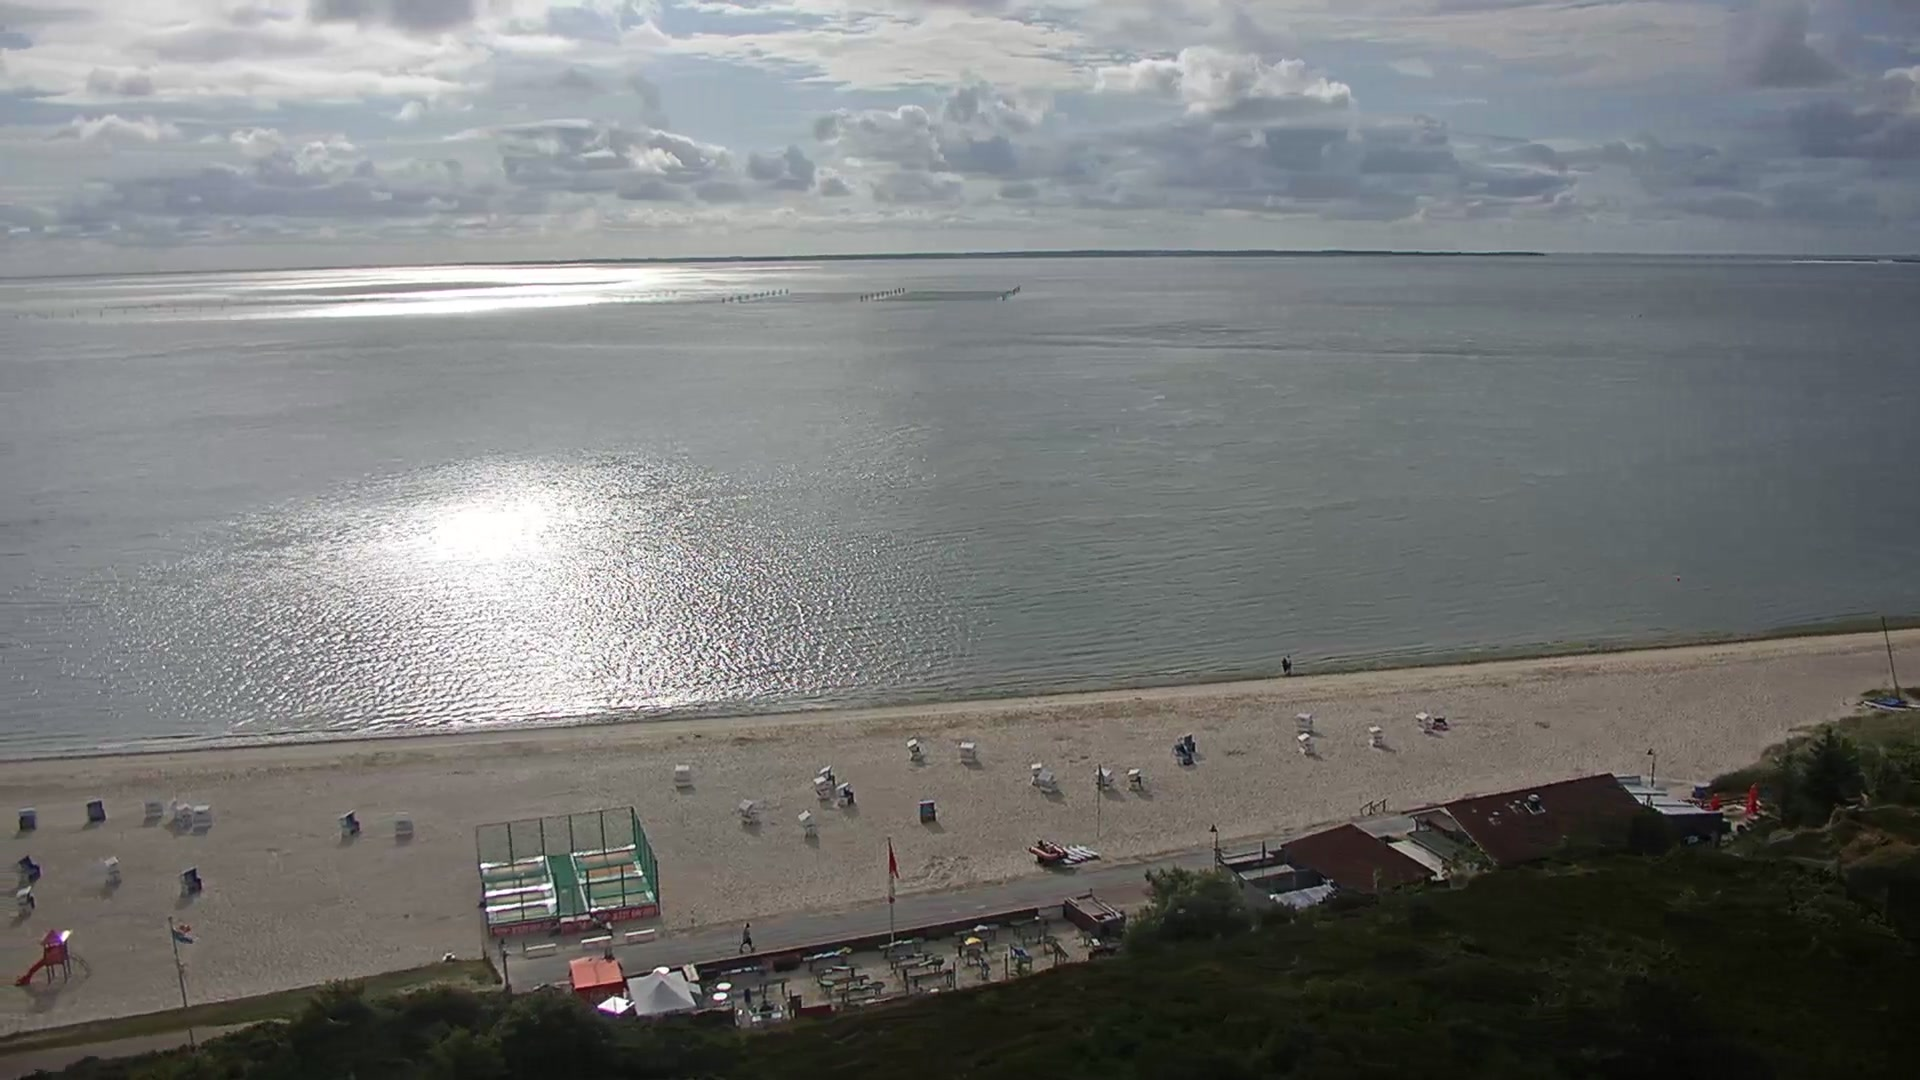human: (738, 921, 755, 953), (1285, 652, 1292, 674), (1281, 656, 1286, 675)
sea: (1859, 616, 1918, 711), (1028, 839, 1065, 860)
